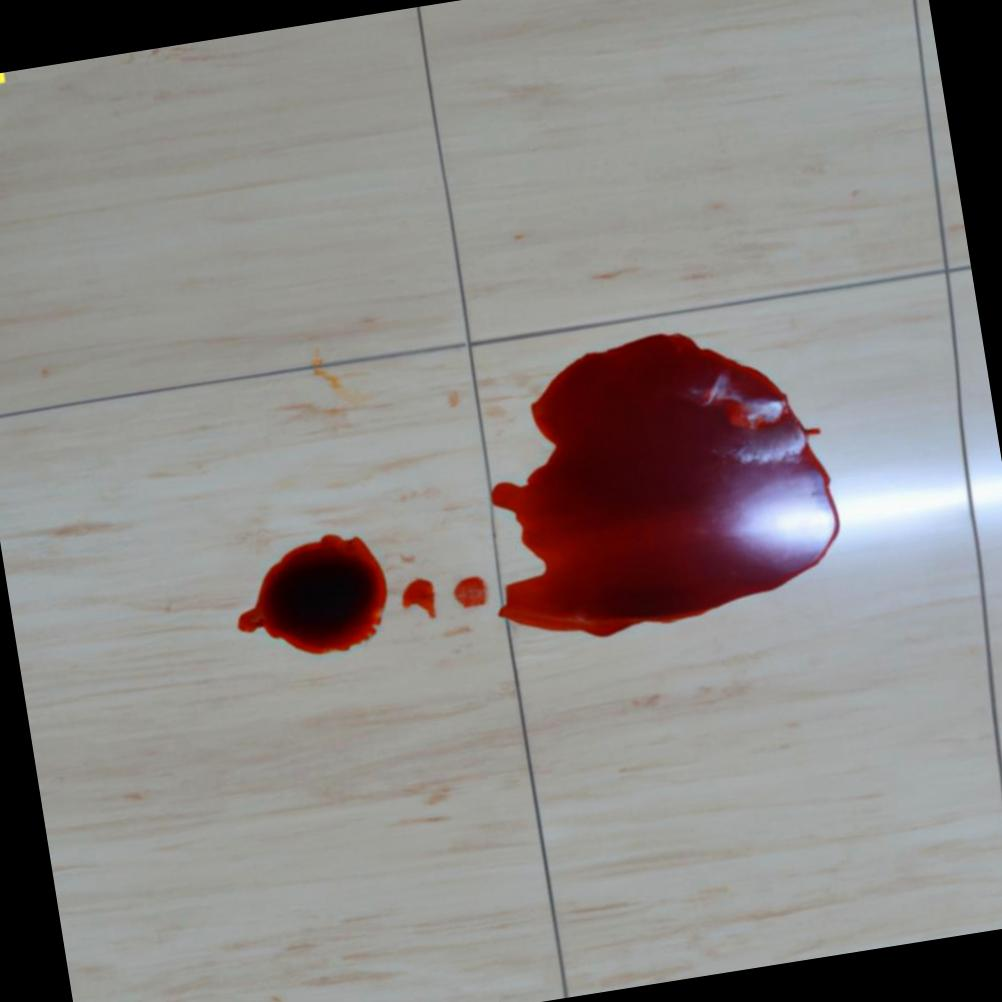Fire: (491, 333, 841, 637), (238, 535, 388, 655), (403, 579, 438, 619), (454, 577, 489, 609)
